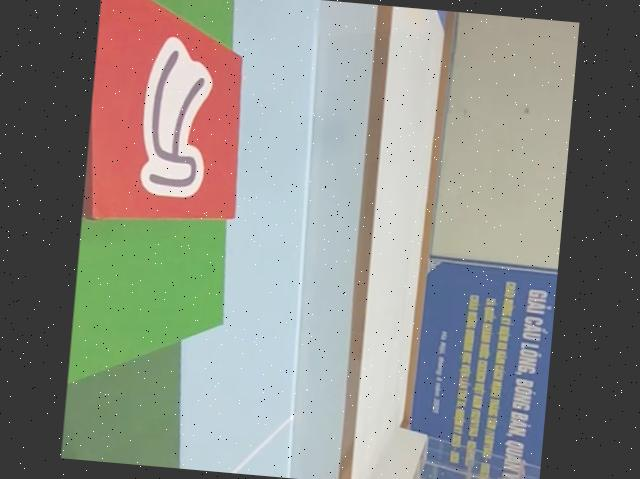R2 Fake: (81, 0, 254, 233)
